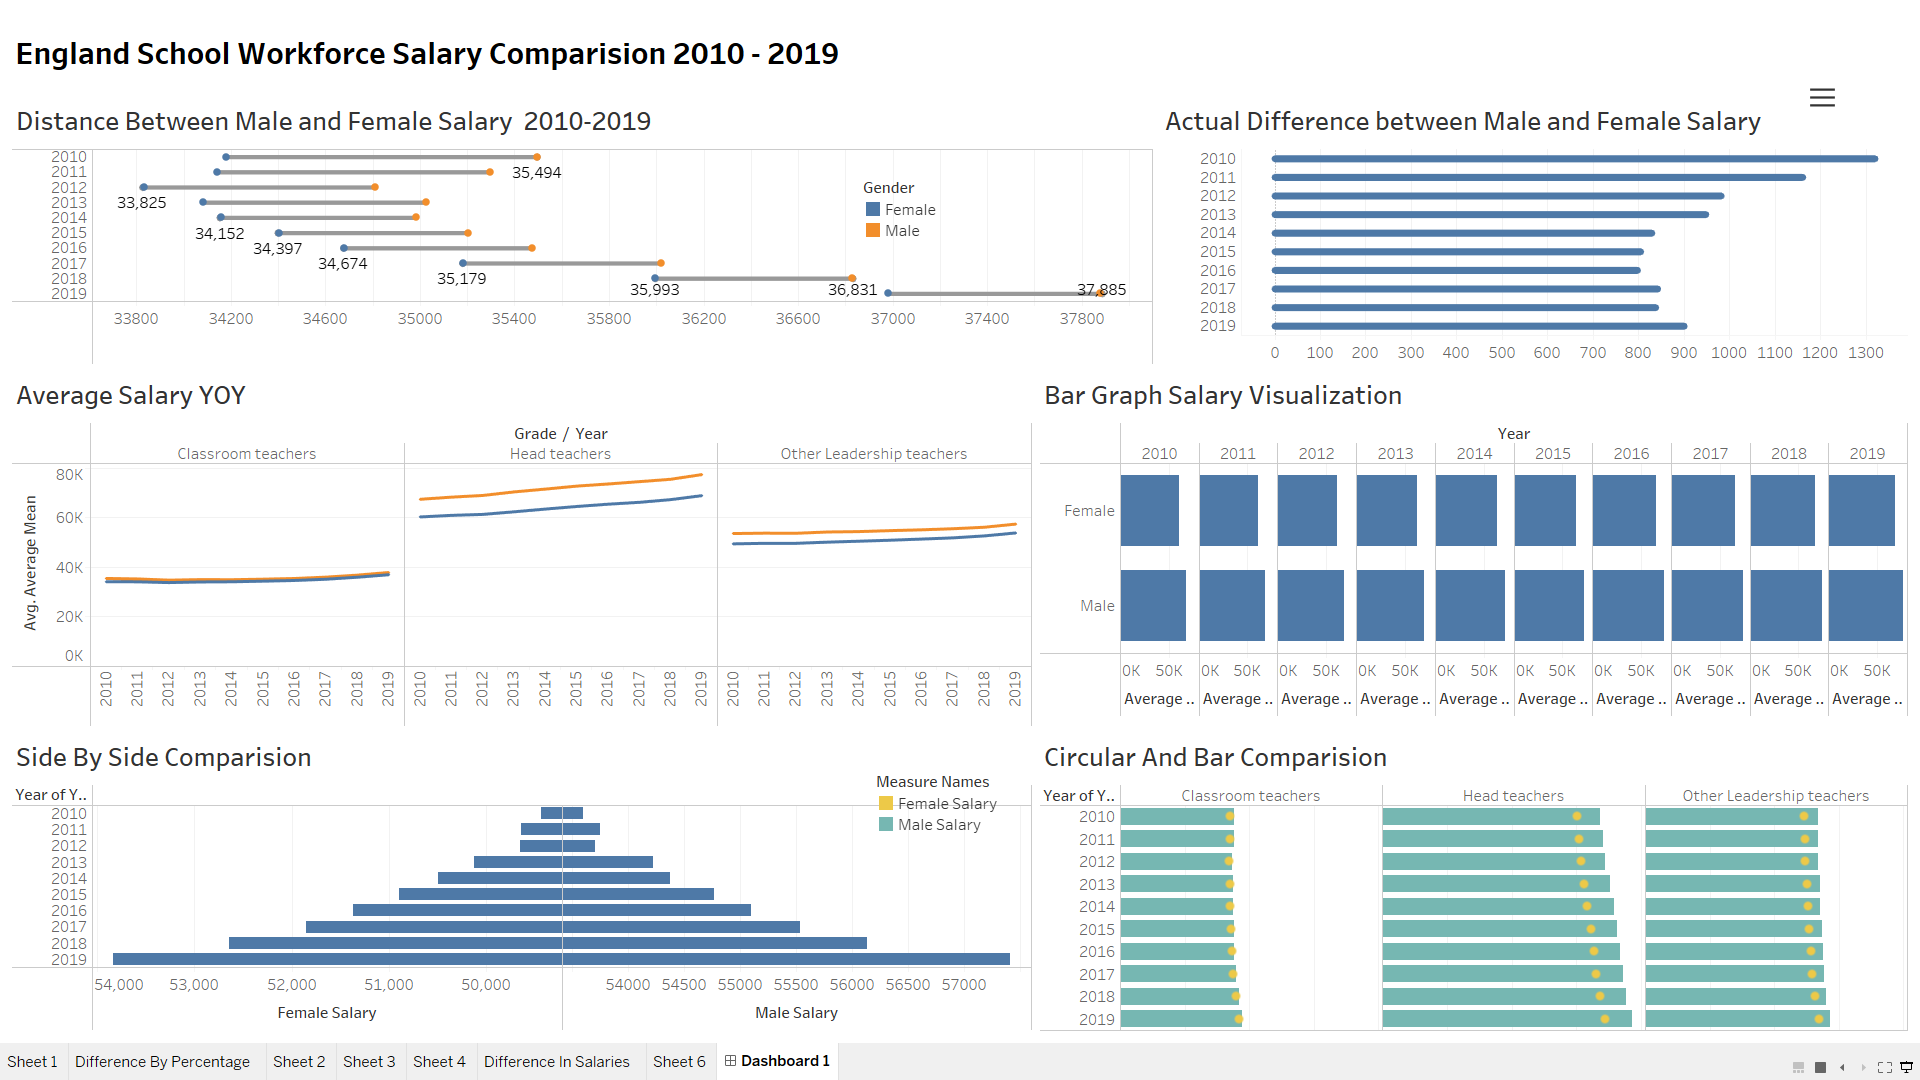

What the dashboard file says about the page in this screenshot:
{"tool":"tableau","page":{"name":"Dashboard 1","canvas":[1000,1000],"units":"permille","ordinal":0},"visuals":[{"type":"text","box":[4.8,8.8,990.3,95.5]},{"type":"dashboard-object","box":[941.5,80.1,14.5,26.3]},{"type":"filter","title":"Difference In Salaries","param":"[federated.0b0azmt1gkis8a16qjfa11jrmof5].[none:grade:nk]","box":[838.9,91.1,101.4,76.8]},{"type":"worksheet","title":"Sheet 4","mark":"Automatic","rows":["Calculation_684265717785427971"],"cols":["average_mean","average_mean"],"box":[4.8,104.3,534.7,250]},{"type":"worksheet","title":"Difference In Salaries","mark":"Line","rows":["Calculation_684265717785427971"],"box":[539.5,104.3,455.6,250]},{"type":"legend","title":"Sheet 4","param":"[federated.0b0azmt1gkis8a16qjfa11jrmof5].[none:gender:nk]","box":[407.4,162.5,84.5,70.2]},{"type":"worksheet","title":"Sheet 1","mark":"Automatic","rows":["average_mean"],"cols":["grade","Calculation_684265717785427971"],"box":[4.8,354.3,534.6,345.8]},{"type":"worksheet","title":"Sheet 6","mark":"Bar","rows":["gender"],"cols":["Calculation_684265717785427971","average_mean"],"box":[539.5,354.3,455.7,345.8]},{"type":"worksheet","title":"Sheet 3","mark":"Bar","rows":["Calculation_684265717785427971"],"cols":["Calculation_684265717814575110","Calculation_684265717811085316"],"box":[4.8,700.2,534.6,291.1]},{"type":"worksheet","title":"Sheet 2","mark":"Bar","rows":["Calculation_684265717785427971"],"cols":["grade","Calculation_684265717811085316","Calculation_684265717811281925"],"box":[539.5,700.2,455.7,291.1]},{"type":"legend","title":"Sheet 2","param":"[federated.0b0azmt1gkis8a16qjfa11jrmof5].[:Measure Names]","box":[456.2,738.8,88.7,77.9]}]}

Visuals, with their boxes on the dashboard's canvas, which has no fixed pixel size, in thousandths of its width and height (x1, y1, x2, y2). These are canvas units, not pixel positions in the 1920x1080 screenshot, which may show the page scaled, cropped or inside an application window:
text: 5:9:995:104
dashboard-object: 942:80:956:106
"Difference In Salaries" filter: 839:91:940:168
"Sheet 4" worksheet: 5:104:540:354
"Difference In Salaries" worksheet (Line marks): 540:104:995:354
"Sheet 4" legend: 407:162:492:233
"Sheet 1" worksheet: 5:354:539:700
"Sheet 6" worksheet (Bar marks): 540:354:995:700
"Sheet 3" worksheet (Bar marks): 5:700:539:991
"Sheet 2" worksheet (Bar marks): 540:700:995:991
"Sheet 2" legend: 456:739:545:817
